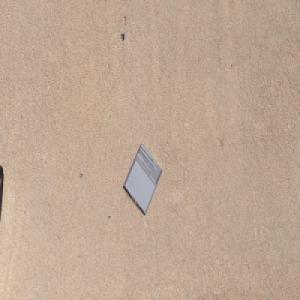PlasticPart: (123, 141, 163, 216)
